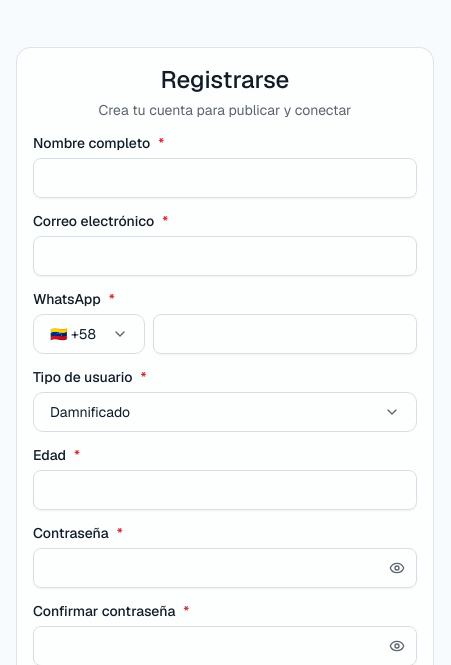
Test case: RegisterPage › rejects an invalid WhatsApp number for the selected country
Type "123" into the field labelled "WhatsApp *" at [285, 334], box [153,314,417,354]
(page scrolled)
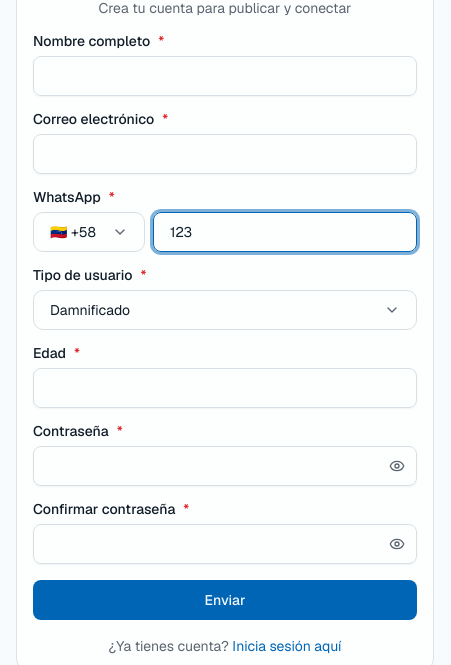
Click the button "Enviar" at [225, 600], box [33,580,417,620]
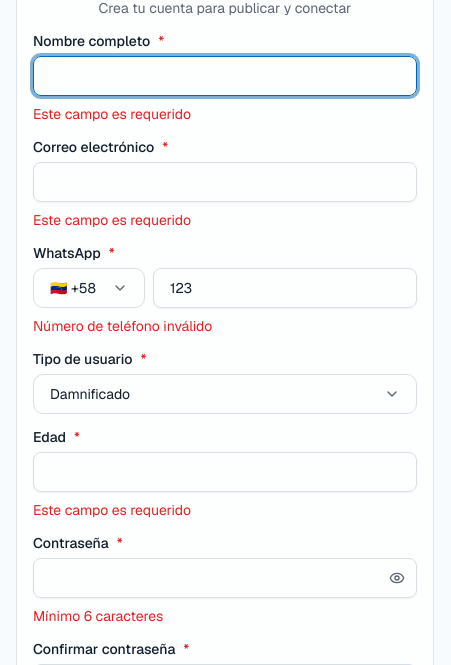
Expected: the text "Número de teléfono inválido" is shown, [33,317,212,335]
